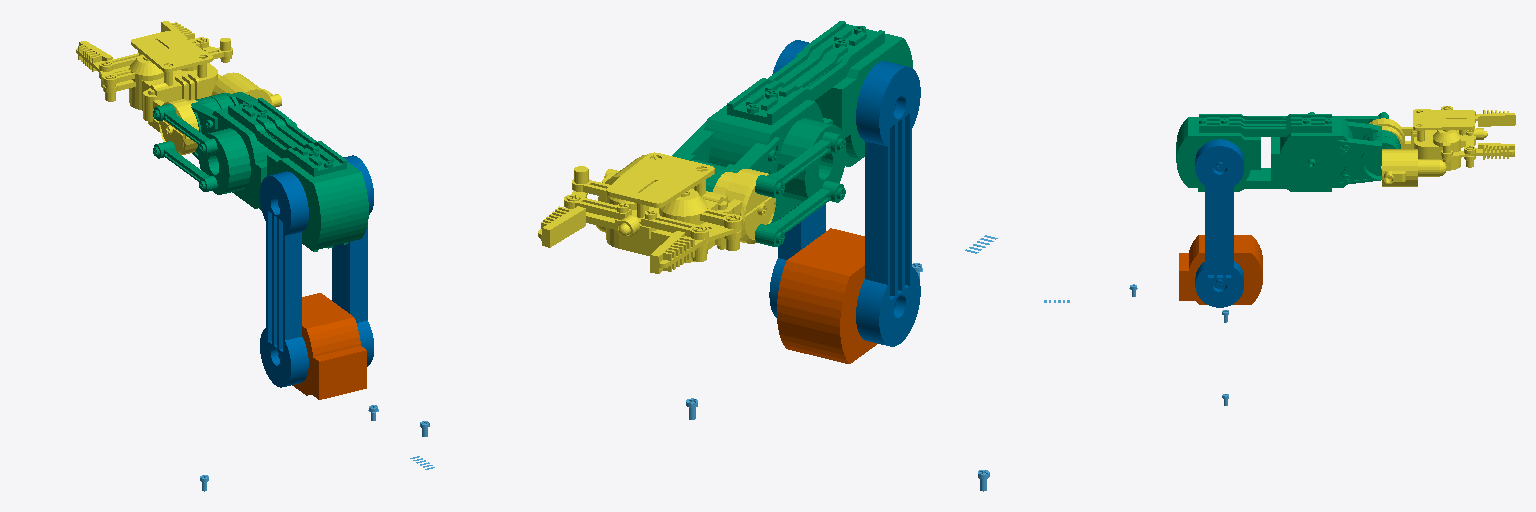
--- What the picture shows (computed from the rendered views, not written in the file) ---
The picture shows the robot from 3 angles, left to right: view 1: azimuth 30°, elevation 25°; view 2: azimuth 150°, elevation 25°; view 3: azimuth 270°, elevation 25°; orthographic projection.
Model owi535 with 6 links and 5 joints (4 revolute, 1 fixed), rooted at World, posed all joints at 0.
Visible links, largest first — view 1: Elbow, Base, Wrist, Rotation; view 2: Elbow, Wrist, Base, Rotation, Model; view 3: Elbow, Wrist, Base, Rotation.
Boxes of the visible links, x1,y1,x2,y2 form: Elbow: (153, 92, 368, 251); Base: (260, 155, 373, 387); Wrist: (76, 21, 281, 155); Rotation: (292, 293, 366, 399); Elbow: (672, 21, 912, 246); Wrist: (538, 152, 775, 273); Base: (769, 40, 920, 346); Rotation: (777, 228, 876, 363); Model: (686, 235, 997, 491); Elbow: (1176, 112, 1400, 191); Wrist: (1369, 106, 1515, 186); Base: (1195, 139, 1243, 307); Rotation: (1179, 235, 1262, 304).
Bounding box of the posed robot: 143 × 327 × 187 m (x, y, z).
72 mesh visuals loaded from 74 distinct referenced files (72 OBJ); not drawn: 2 (reference not matched to a file when rendering).

URDF robot description (owi535):
<?xml version="1.0" ?>
<robot name="owi535">
   <link name="World"/>
   <link name="Model">
      <visual>
         <origin rpy="0.0 -0.0 0.0" xyz="0.0 0.0 0.0"/>
         <geometry>
            <mesh filename="Untitled-mesh.0.obj"/>
         </geometry>
      </visual>
      <collision>
         <origin rpy="0.0 -0.0 0.0" xyz="0.0 0.0 0.0"/>
         <geometry>
            <mesh filename="Untitled-mesh.0.obj"/>
         </geometry>
      </collision>
      <visual>
         <origin rpy="0.0 -0.0 0.0" xyz="0.0 0.0 0.0"/>
         <geometry>
            <mesh filename="Untitled_001-mesh.0.obj"/>
         </geometry>
      </visual>
      <collision>
         <origin rpy="0.0 -0.0 0.0" xyz="0.0 0.0 0.0"/>
         <geometry>
            <mesh filename="Untitled_001-mesh.0.obj"/>
         </geometry>
      </collision>
      <visual>
         <origin rpy="0.0 -0.0 0.0" xyz="0.0 0.0 0.0"/>
         <geometry>
            <mesh filename="Untitled_001-mesh.1.obj"/>
         </geometry>
      </visual>
      <collision>
         <origin rpy="0.0 -0.0 0.0" xyz="0.0 0.0 0.0"/>
         <geometry>
            <mesh filename="Untitled_001-mesh.1.obj"/>
         </geometry>
      </collision>
      <visual>
         <origin rpy="0.0 -0.0 0.0" xyz="0.0 0.0 0.0"/>
         <geometry>
            <mesh filename="Untitled_001-mesh.2.obj"/>
         </geometry>
      </visual>
      <collision>
         <origin rpy="0.0 -0.0 0.0" xyz="0.0 0.0 0.0"/>
         <geometry>
            <mesh filename="Untitled_001-mesh.2.obj"/>
         </geometry>
      </collision>
      <visual>
         <origin rpy="0.0 -0.0 0.0" xyz="0.0 0.0 0.0"/>
         <geometry>
            <mesh filename="Untitled_001-mesh.3.obj"/>
         </geometry>
      </visual>
      <collision>
         <origin rpy="0.0 -0.0 0.0" xyz="0.0 0.0 0.0"/>
         <geometry>
            <mesh filename="Untitled_001-mesh.3.obj"/>
         </geometry>
      </collision>
      <visual>
         <origin rpy="0.0 -0.0 0.0" xyz="0.0 0.0 0.0"/>
         <geometry>
            <mesh filename="Untitled_002-mesh.0.obj"/>
         </geometry>
      </visual>
      <collision>
         <origin rpy="0.0 -0.0 0.0" xyz="0.0 0.0 0.0"/>
         <geometry>
            <mesh filename="Untitled_002-mesh.0.obj"/>
         </geometry>
      </collision>
      <visual>
         <origin rpy="0.0 -0.0 0.0" xyz="0.0 0.0 0.0"/>
         <geometry>
            <mesh filename="Untitled_003-mesh.0.obj"/>
         </geometry>
      </visual>
      <collision>
         <origin rpy="0.0 -0.0 0.0" xyz="0.0 0.0 0.0"/>
         <geometry>
            <mesh filename="Untitled_003-mesh.0.obj"/>
         </geometry>
      </collision>
       <inertial>
 <origin rpy="0.0 -0.0 0.0" xyz="0.0 0.0 0.0"/>
            <mass value="1" />
            
            
<inertia ixx="1" ixy="0" ixz="0" iyy="1" iyz="0" izz="1" />      </inertial>
   </link>
   <link name="Elbow">
      <visual>
         <origin rpy="-3.97231980642232e-09 -0.0 0.0" xyz="46.62923049926758 -157.33990478515625 23.237260818481445"/>
         <geometry>
            <mesh filename="Untitled_004-mesh.0.obj"/>
         </geometry>
      </visual>
      <collision>
         <origin rpy="-3.97231980642232e-09 -0.0 0.0" xyz="46.62923049926758 -157.33990478515625 23.237260818481445"/>
         <geometry>
            <mesh filename="Untitled_004-mesh.0.obj"/>
         </geometry>
      </collision>
      <visual>
         <origin rpy="-3.97231980642232e-09 -0.0 0.0" xyz="46.62923049926758 -157.33990478515625 23.237260818481445"/>
         <geometry>
            <mesh filename="Untitled_005-mesh.0.obj"/>
         </geometry>
      </visual>
      <collision>
         <origin rpy="-3.97231980642232e-09 -0.0 0.0" xyz="46.62923049926758 -157.33990478515625 23.237260818481445"/>
         <geometry>
            <mesh filename="Untitled_005-mesh.0.obj"/>
         </geometry>
      </collision>
      <visual>
         <origin rpy="-3.97231980642232e-09 -0.0 0.0" xyz="46.62923049926758 -157.33990478515625 23.237260818481445"/>
         <geometry>
            <mesh filename="Untitled_006-mesh.0.obj"/>
         </geometry>
      </visual>
      <collision>
         <origin rpy="-3.97231980642232e-09 -0.0 0.0" xyz="46.62923049926758 -157.33990478515625 23.237260818481445"/>
         <geometry>
            <mesh filename="Untitled_006-mesh.0.obj"/>
         </geometry>
      </collision>
      <visual>
         <origin rpy="-3.97231980642232e-09 -0.0 0.0" xyz="46.62923049926758 -157.33990478515625 23.237260818481445"/>
         <geometry>
            <mesh filename="Untitled_007-mesh.0.obj"/>
         </geometry>
      </visual>
      <collision>
         <origin rpy="-3.97231980642232e-09 -0.0 0.0" xyz="46.62923049926758 -157.33990478515625 23.237260818481445"/>
         <geometry>
            <mesh filename="Untitled_007-mesh.0.obj"/>
         </geometry>
      </collision>
      <visual>
         <origin rpy="-3.97231980642232e-09 -0.0 0.0" xyz="46.62923049926758 -157.33990478515625 23.237260818481445"/>
         <geometry>
            <mesh filename="Untitled_008-mesh.0.obj"/>
         </geometry>
      </visual>
      <collision>
         <origin rpy="-3.97231980642232e-09 -0.0 0.0" xyz="46.62923049926758 -157.33990478515625 23.237260818481445"/>
         <geometry>
            <mesh filename="Untitled_008-mesh.0.obj"/>
         </geometry>
      </collision>
      <visual>
         <origin rpy="-3.97231980642232e-09 -0.0 0.0" xyz="46.62923049926758 -157.33990478515625 23.237260818481445"/>
         <geometry>
            <mesh filename="Untitled_009-mesh.0.obj"/>
         </geometry>
      </visual>
      <collision>
         <origin rpy="-3.97231980642232e-09 -0.0 0.0" xyz="46.62923049926758 -157.33990478515625 23.237260818481445"/>
         <geometry>
            <mesh filename="Untitled_009-mesh.0.obj"/>
         </geometry>
      </collision>
      <visual>
         <origin rpy="-3.97231980642232e-09 -0.0 0.0" xyz="46.62923049926758 -157.33990478515625 23.237260818481445"/>
         <geometry>
            <mesh filename="Untitled_010-mesh.0.obj"/>
         </geometry>
      </visual>
      <collision>
         <origin rpy="-3.97231980642232e-09 -0.0 0.0" xyz="46.62923049926758 -157.33990478515625 23.237260818481445"/>
         <geometry>
            <mesh filename="Untitled_010-mesh.0.obj"/>
         </geometry>
      </collision>
      <visual>
         <origin rpy="-3.97231980642232e-09 -0.0 0.0" xyz="46.62923049926758 -157.33990478515625 23.237260818481445"/>
         <geometry>
            <mesh filename="Untitled_011-mesh.0.obj"/>
         </geometry>
      </visual>
      <collision>
         <origin rpy="-3.97231980642232e-09 -0.0 0.0" xyz="46.62923049926758 -157.33990478515625 23.237260818481445"/>
         <geometry>
            <mesh filename="Untitled_011-mesh.0.obj"/>
         </geometry>
      </collision>
      <visual>
         <origin rpy="-7.94463961284464e-09 -0.0 0.0" xyz="46.62922668457031 -157.33990478515625 23.237262725830078"/>
         <geometry>
            <mesh filename="Untitled_040-mesh.0.obj"/>
         </geometry>
      </visual>
      <collision>
         <origin rpy="-7.94463961284464e-09 -0.0 0.0" xyz="46.62922668457031 -157.33990478515625 23.237262725830078"/>
         <geometry>
            <mesh filename="Untitled_040-mesh.0.obj"/>
         </geometry>
      </collision>
      <visual>
         <origin rpy="-7.94463961284464e-09 -0.0 0.0" xyz="46.62922668457031 -157.33990478515625 23.237262725830078"/>
         <geometry>
            <mesh filename="Untitled_041-mesh.0.obj"/>
         </geometry>
      </visual>
      <collision>
         <origin rpy="-7.94463961284464e-09 -0.0 0.0" xyz="46.62922668457031 -157.33990478515625 23.237262725830078"/>
         <geometry>
            <mesh filename="Untitled_041-mesh.0.obj"/>
         </geometry>
      </collision>
      <visual>
         <origin rpy="-7.94463961284464e-09 -0.0 0.0" xyz="46.62922668457031 -157.33990478515625 23.237262725830078"/>
         <geometry>
            <mesh filename="Untitled_042-mesh.0.obj"/>
         </geometry>
      </visual>
      <collision>
         <origin rpy="-7.94463961284464e-09 -0.0 0.0" xyz="46.62922668457031 -157.33990478515625 23.237262725830078"/>
         <geometry>
            <mesh filename="Untitled_042-mesh.0.obj"/>
         </geometry>
      </collision>
      <visual>
         <origin rpy="-7.94463961284464e-09 -0.0 0.0" xyz="46.62922668457031 -157.33990478515625 23.237262725830078"/>
         <geometry>
            <mesh filename="Untitled_043-mesh.0.obj"/>
         </geometry>
      </visual>
      <collision>
         <origin rpy="-7.94463961284464e-09 -0.0 0.0" xyz="46.62922668457031 -157.33990478515625 23.237262725830078"/>
         <geometry>
            <mesh filename="Untitled_043-mesh.0.obj"/>
         </geometry>
      </collision>
      <visual>
         <origin rpy="-7.94463961284464e-09 -0.0 0.0" xyz="46.62922668457031 -157.33990478515625 23.237262725830078"/>
         <geometry>
            <mesh filename="Untitled_044-mesh.0.obj"/>
         </geometry>
      </visual>
      <collision>
         <origin rpy="-7.94463961284464e-09 -0.0 0.0" xyz="46.62922668457031 -157.33990478515625 23.237262725830078"/>
         <geometry>
            <mesh filename="Untitled_044-mesh.0.obj"/>
         </geometry>
      </collision>
      <visual>
         <origin rpy="-7.94463961284464e-09 -0.0 0.0" xyz="46.62922668457031 -157.33990478515625 23.237262725830078"/>
         <geometry>
            <mesh filename="Untitled_045-mesh.0.obj"/>
         </geometry>
      </visual>
      <collision>
         <origin rpy="-7.94463961284464e-09 -0.0 0.0" xyz="46.62922668457031 -157.33990478515625 23.237262725830078"/>
         <geometry>
            <mesh filename="Untitled_045-mesh.0.obj"/>
         </geometry>
      </collision>
      <visual>
         <origin rpy="-7.94463961284464e-09 -0.0 0.0" xyz="46.62922668457031 -157.33990478515625 23.237262725830078"/>
         <geometry>
            <mesh filename="Untitled_046-mesh.0.obj"/>
         </geometry>
      </visual>
      <collision>
         <origin rpy="-7.94463961284464e-09 -0.0 0.0" xyz="46.62922668457031 -157.33990478515625 23.237262725830078"/>
         <geometry>
            <mesh filename="Untitled_046-mesh.0.obj"/>
         </geometry>
      </collision>
      <visual>
         <origin rpy="-7.94463961284464e-09 -0.0 0.0" xyz="46.62922668457031 -157.33990478515625 23.237262725830078"/>
         <geometry>
            <mesh filename="Untitled_047-mesh.0.obj"/>
         </geometry>
      </visual>
      <collision>
         <origin rpy="-7.94463961284464e-09 -0.0 0.0" xyz="46.62922668457031 -157.33990478515625 23.237262725830078"/>
         <geometry>
            <mesh filename="Untitled_047-mesh.0.obj"/>
         </geometry>
      </collision>
      <visual>
         <origin rpy="-7.94463961284464e-09 -0.0 0.0" xyz="46.62922668457031 -157.33990478515625 23.237262725830078"/>
         <geometry>
            <mesh filename="Untitled_048-mesh.0.obj"/>
         </geometry>
      </visual>
      <collision>
         <origin rpy="-7.94463961284464e-09 -0.0 0.0" xyz="46.62922668457031 -157.33990478515625 23.237262725830078"/>
         <geometry>
            <mesh filename="Untitled_048-mesh.0.obj"/>
         </geometry>
      </collision>
      <visual>
         <origin rpy="-7.94463961284464e-09 -0.0 0.0" xyz="46.62922668457031 -157.33990478515625 23.237262725830078"/>
         <geometry>
            <mesh filename="Untitled_049-mesh.0.obj"/>
         </geometry>
      </visual>
      <collision>
         <origin rpy="-7.94463961284464e-09 -0.0 0.0" xyz="46.62922668457031 -157.33990478515625 23.237262725830078"/>
         <geometry>
            <mesh filename="Untitled_049-mesh.0.obj"/>
         </geometry>
      </collision>
      <visual>
         <origin rpy="-7.94463961284464e-09 -0.0 0.0" xyz="46.62922668457031 -157.33990478515625 23.237262725830078"/>
         <geometry>
            <mesh filename="Untitled_050-mesh.0.obj"/>
         </geometry>
      </visual>
      <collision>
         <origin rpy="-7.94463961284464e-09 -0.0 0.0" xyz="46.62922668457031 -157.33990478515625 23.237262725830078"/>
         <geometry>
            <mesh filename="Untitled_050-mesh.0.obj"/>
         </geometry>
      </collision>
      <visual>
         <origin rpy="-7.94463961284464e-09 -0.0 0.0" xyz="46.62922668457031 -157.33990478515625 23.237262725830078"/>
         <geometry>
            <mesh filename="Untitled_051-mesh.0.obj"/>
         </geometry>
      </visual>
      <collision>
         <origin rpy="-7.94463961284464e-09 -0.0 0.0" xyz="46.62922668457031 -157.33990478515625 23.237262725830078"/>
         <geometry>
            <mesh filename="Untitled_051-mesh.0.obj"/>
         </geometry>
      </collision>
      <visual>
         <origin rpy="-7.94463961284464e-09 -0.0 0.0" xyz="46.62922668457031 -157.33990478515625 23.237262725830078"/>
         <geometry>
            <mesh filename="Untitled_052-mesh.0.obj"/>
         </geometry>
      </visual>
      <collision>
         <origin rpy="-7.94463961284464e-09 -0.0 0.0" xyz="46.62922668457031 -157.33990478515625 23.237262725830078"/>
         <geometry>
            <mesh filename="Untitled_052-mesh.0.obj"/>
         </geometry>
      </collision>
      <visual>
         <origin rpy="-7.94463961284464e-09 -0.0 0.0" xyz="46.62922668457031 -157.33990478515625 23.237262725830078"/>
         <geometry>
            <mesh filename="Untitled_053-mesh.0.obj"/>
         </geometry>
      </visual>
      <collision>
         <origin rpy="-7.94463961284464e-09 -0.0 0.0" xyz="46.62922668457031 -157.33990478515625 23.237262725830078"/>
         <geometry>
            <mesh filename="Untitled_053-mesh.0.obj"/>
         </geometry>
      </collision>
      <visual>
         <origin rpy="-7.94463961284464e-09 -0.0 0.0" xyz="46.62922668457031 -157.33990478515625 23.237262725830078"/>
         <geometry>
            <mesh filename="Untitled_054-mesh.0.obj"/>
         </geometry>
      </visual>
      <collision>
         <origin rpy="-7.94463961284464e-09 -0.0 0.0" xyz="46.62922668457031 -157.33990478515625 23.237262725830078"/>
         <geometry>
            <mesh filename="Untitled_054-mesh.0.obj"/>
         </geometry>
      </collision>
      <visual>
         <origin rpy="-7.94463961284464e-09 -0.0 0.0" xyz="46.62922668457031 -157.33990478515625 23.237262725830078"/>
         <geometry>
            <mesh filename="Untitled_055-mesh.0.obj"/>
         </geometry>
      </visual>
      <collision>
         <origin rpy="-7.94463961284464e-09 -0.0 0.0" xyz="46.62922668457031 -157.33990478515625 23.237262725830078"/>
         <geometry>
            <mesh filename="Untitled_055-mesh.0.obj"/>
         </geometry>
      </collision>
      <visual>
         <origin rpy="-7.94463961284464e-09 -0.0 0.0" xyz="46.62922668457031 -157.33990478515625 23.237262725830078"/>
         <geometry>
            <mesh filename="Untitled_056-mesh.0.obj"/>
         </geometry>
      </visual>
      <collision>
         <origin rpy="-7.94463961284464e-09 -0.0 0.0" xyz="46.62922668457031 -157.33990478515625 23.237262725830078"/>
         <geometry>
            <mesh filename="Untitled_056-mesh.0.obj"/>
         </geometry>
      </collision>
      <visual>
         <origin rpy="-7.94463961284464e-09 -0.0 0.0" xyz="46.62922668457031 -157.33990478515625 23.237262725830078"/>
         <geometry>
            <mesh filename="Untitled_057-mesh.0.obj"/>
         </geometry>
      </visual>
      <collision>
         <origin rpy="-7.94463961284464e-09 -0.0 0.0" xyz="46.62922668457031 -157.33990478515625 23.237262725830078"/>
         <geometry>
            <mesh filename="Untitled_057-mesh.0.obj"/>
         </geometry>
      </collision>
            <inertial>

            <mass value="5" />
            
<inertia ixx="1" ixy="0" ixz="0" iyy="1" iyz="0" izz="1" />    </inertial>
   </link>
   <link name="Wrist">
      <visual>
         <origin rpy="4.371139894487894e-08 -0.0 0.0" xyz="45.20729064941406 -156.94960021972656 136.8153076171875"/>
         <geometry>
            <mesh filename="Untitled_012-mesh.0.obj"/>
         </geometry>
      </visual>
      <collision>
         <origin rpy="4.371139894487894e-08 -0.0 0.0" xyz="45.20729064941406 -156.94960021972656 136.8153076171875"/>
         <geometry>
            <mesh filename="Untitled_012-mesh.0.obj"/>
         </geometry>
      </collision>
      <visual>
         <origin rpy="4.371139894487894e-08 -0.0 0.0" xyz="45.20729064941406 -156.94960021972656 136.8153076171875"/>
         <geometry>
            <mesh filename="Untitled_013-mesh.0.obj"/>
         </geometry>
      </visual>
      <collision>
         <origin rpy="4.371139894487894e-08 -0.0 0.0" xyz="45.20729064941406 -156.94960021972656 136.8153076171875"/>
         <geometry>
            <mesh filename="Untitled_013-mesh.0.obj"/>
         </geometry>
      </collision>
      <visual>
         <origin rpy="4.371139894487894e-08 -0.0 0.0" xyz="45.20729064941406 -156.94960021972656 136.8153076171875"/>
         <geometry>
            <mesh filename="Untitled_014-mesh.0.obj"/>
         </geometry>
      </visual>
      <collision>
         <origin rpy="4.371139894487894e-08 -0.0 0.0" xyz="45.20729064941406 -156.94960021972656 136.8153076171875"/>
         <geometry>
            <mesh filename="Untitled_014-mesh.0.obj"/>
         </geometry>
      </collision>
      <visual>
         <origin rpy="4.371139894487894e-08 -0.0 0.0" xyz="45.20729064941406 -156.94960021972656 136.8153076171875"/>
         <geometry>
            <mesh filename="Untitled_015-mesh.0.obj"/>
         </geometry>
      </visual>
      <collision>
         <origin rpy="4.371139894487894e-08 -0.0 0.0" xyz="45.20729064941406 -156.94960021972656 136.8153076171875"/>
         <geometry>
            <mesh filename="Untitled_015-mesh.0.obj"/>
         </geometry>
      </collision>
      <visual>
         <origin rpy="4.371139894487894e-08 -0.0 0.0" xyz="45.20729064941406 -156.94960021972656 136.8153076171875"/>
         <geometry>
            <mesh filename="Untitled_016-mesh.0.obj"/>
         </geometry>
      </visual>
      <collision>
         <origin rpy="4.371139894487894e-08 -0.0 0.0" xyz="45.20729064941406 -156.94960021972656 136.8153076171875"/>
         <geometry>
            <mesh filename="Untitled_016-mesh.0.obj"/>
         </geometry>
      </collision>
      <visual>
         <origin rpy="4.371139894487894e-08 -0.0 0.0" xyz="45.20729064941406 -156.94960021972656 136.8153076171875"/>
         <geometry>
            <mesh filename="Untitled_017-mesh.0.obj"/>
         </geometry>
      </visual>
      <collision>
         <origin rpy="4.371139894487894e-08 -0.0 0.0" xyz="45.20729064941406 -156.94960021972656 136.8153076171875"/>
         <geometry>
            <mesh filename="Untitled_017-mesh.0.obj"/>
         </geometry>
      </collision>
      <visual>
         <origin rpy="4.371139894487894e-08 -0.0 0.0" xyz="45.20729064941406 -156.94960021972656 136.8153076171875"/>
         <geometry>
            <mesh filename="Untitled_018-mesh.0.obj"/>
         </geometry>
      </visual>
      <collision>
         <origin rpy="4.371139894487894e-08 -0.0 0.0" xyz="45.20729064941406 -156.94960021972656 136.8153076171875"/>
         <geometry>
            <mesh filename="Untitled_018-mesh.0.obj"/>
         </geometry>
      </collision>
      <visual>
         <origin rpy="4.371139894487894e-08 -0.0 0.0" xyz="45.20729064941406 -156.94960021972656 136.8153076171875"/>
         <geometry>
            <mesh filename="Untitled_019-mesh.0.obj"/>
         </geometry>
      </visual>
      <collision>
         <origin rpy="4.371139894487894e-08 -0.0 0.0" xyz="45.20729064941406 -156.94960021972656 136.8153076171875"/>
         <geometry>
            <mesh filename="Untitled_019-mesh.0.obj"/>
         </geometry>
      </collision>
      <visual>
         <origin rpy="4.371139894487894e-08 -0.0 0.0" xyz="45.20729064941406 -156.94960021972656 136.8153076171875"/>
         <geometry>
            <mesh filename="Untitled_019-mesh.1.obj"/>
         </geometry>
      </visual>
      <collision>
         <origin rpy="4.371139894487894e-08 -0.0 0.0" xyz="45.20729064941406 -156.94960021972656 136.8153076171875"/>
         <geometry>
            <mesh filename="Untitled_019-mesh.1.obj"/>
         </geometry>
      </collision>
      <visual>
         <origin rpy="4.371139894487894e-08 -0.0 0.0" xyz="45.20729064941406 -156.94960021972656 136.8153076171875"/>
         <geometry>
            <mesh filename="Untitled_019-mesh.2.obj"/>
         </geometry>
      </visual>
      <collision>
         <origin rpy="4.371139894487894e-08 -0.0 0.0" xyz="45.20729064941406 -156.94960021972656 136.8153076171875"/>
         <geometry>
            <mesh filename="Untitled_019-mesh.2.obj"/>
         </geometry>
      </collision>
      <visual>
         <origin rpy="4.371139894487894e-08 -0.0 0.0" xyz="45.20729064941406 -156.94960021972656 136.8153076171875"/>
         <geometry>
            <mesh filename="Untitled_020-mesh.0.obj"/>
         </geometry>
      </visual>
      <collision>
         <origin rpy="4.371139894487894e-08 -0.0 0.0" xyz="45.20729064941406 -156.94960021972656 136.8153076171875"/>
         <geometry>
            <mesh filename="Untitled_020-mesh.0.obj"/>
         </geometry>
      </collision>
      <visual>
         <origin rpy="4.371139894487894e-08 -0.0 0.0" xyz="45.20729064941406 -156.94960021972656 136.8153076171875"/>
         <geometry>
            <mesh filename="Untitled_021-mesh.0.obj"/>
         </geometry>
      </visual>
      <collision>
         <origin rpy="4.371139894487894e-08 -0.0 0.0" xyz="45.20729064941406 -156.94960021972656 136.8153076171875"/>
         <geometry>
            <mesh filename="Untitled_021-mesh.0.obj"/>
         </geometry>
      </collision>
      <visual>
         <origin rpy="4.371139894487894e-08 -0.0 0.0" xyz="45.20729064941406 -156.94960021972656 136.8153076171875"/>
         <geometry>
            <mesh filename="Untitled_022-mesh.0.obj"/>
         </geometry>
      </visual>
      <collision>
         <origin rpy="4.371139894487894e-08 -0.0 0.0" xyz="45.20729064941406 -156.94960021972656 136.8153076171875"/>
         <geometry>
            <mesh filename="Untitled_022-mesh.0.obj"/>
         </geometry>
      </collision>
      <visual>
         <origin rpy="4.371139894487894e-08 -0.0 0.0" xyz="45.20729064941406 -156.94960021972656 136.8153076171875"/>
         <geometry>
            <mesh filename="Untitled_022-mesh.1.obj"/>
         </geometry>
      </visual>
      <collision>
         <origin rpy="4.371139894487894e-08 -0.0 0.0" xyz="45.20729064941406 -156.94960021972656 136.8153076171875"/>
         <geometry>
            <mesh filename="Untitled_022-mesh.1.obj"/>
         </geometry>
      </collision>
      <visual>
         <origin rpy="4.371139894487894e-08 -0.0 0.0" xyz="45.20729064941406 -156.94960021972656 136.8153076171875"/>
         <geometry>
            <mesh filename="Untitled_022-mesh.2.obj"/>
         </geometry>
      </visual>
      <collision>
         <origin rpy="4.371139894487894e-08 -0.0 0.0" xyz="45.20729064941406 -156.94960021972656 136.8153076171875"/>
         <geometry>
            <mesh filename="Untitled_022-mesh.2.obj"/>
         </geometry>
      </collision>
      <visual>
         <origin rpy="4.371139894487894e-08 -0.0 0.0" xyz="45.20729064941406 -156.94960021972656 136.8153076171875"/>
         <geometry>
            <mesh filename="Untitled_023-mesh.0.obj"/>
         </geometry>
      </visual>
      <collision>
         <origin rpy="4.371139894487894e-08 -0.0 0.0" xyz="45.20729064941406 -156.94960021972656 136.8153076171875"/>
         <geometry>
            <mesh filename="Untitled_023-mesh.0.obj"/>
         </geometry>
      </collision>
      <visual>
         <origin rpy="4.371139894487894e-08 -0.0 0.0" xyz="45.20729064941406 -156.94960021972656 136.8153076171875"/>
         <geometry>
            <mesh filename="Untitled_024-mesh.0.obj"/>
         </geometry>
      </visual>
      <collision>
         <origin rpy="4.371139894487894e-08 -0.0 0.0" xyz="45.20729064941406 -156.94960021972656 136.8153076171875"/>
         <geometry>
            <mesh filename="Untitled_024-mesh.0.obj"/>
         </geometry>
      </collision>
      <visual>
         <origin rpy="4.371139894487894e-08 -0.0 0.0" xyz="45.20729064941406 -156.94960021972656 136.8153076171875"/>
         <geometry>
            <mesh filename="Untitled_025-mesh.0.obj"/>
         </geometry>
      </visual>
      <collision>
         <origin rpy="4.371139894487894e-08 -0.0 0.0" xyz="45.20729064941406 -156.94960021972656 136.8153076171875"/>
         <geometry>
            <mesh filename="Untitled_025-mesh.0.obj"/>
         </geometry>
      </collision>
      <visual>
         <origin rpy="4.371139894487894e-08 -0.0 0.0" xyz="45.20729064941406 -156.94960021972656 136.8153076171875"/>
         <geometry>
            <mesh filename="Untitled_026-mesh.0.obj"/>
         </geometry>
      </visual>
      <collision>
         <origin rpy="4.371139894487894e-08 -0.0 0.0" xyz="45.20729064941406 -156.94960021972656 136.8153076171875"/>
         <geometry>
            <mesh filename="Untitled_026-mesh.0.obj"/>
         </geometry>
      </collision>
      <visual>
         <origin rpy="4.371139894487894e-08 -0.0 0.0" xyz="45.20729064941406 -156.94960021972656 136.8153076171875"/>
         <geometry>
            <mesh filename="Untitled_026-mesh.1.obj"/>
         </geometry>
      </visual>
      <collision>
         <origin rpy="4.371139894487894e-08 -0.0 0.0" xyz="45.20729064941406 -156.94960021972656 136.8153076171875"/>
         <geometry>
            <mesh filename="Untitled_026-mesh.1.obj"/>
         </geometry>
      </collision>
      <visual>
         <origin rpy="4.371139894487894e-08 -0.0 0.0" xyz="45.20729064941406 -156.94960021972656 136.8153076171875"/>
         <geometry>
            <mesh filename="Untitled_027-mesh.0.obj"/>
         </geometry>
      </visual>
      <collision>
         <origin rpy="4.371139894487894e-08 -0.0 0.0" xyz="45.20729064941406 -156.94960021972656 136.8153076171875"/>
         <geometry>
            <mesh filename="Untitled_027-mesh.0.obj"/>
         </geometry>
      </collision>
      <visual>
         <origin rpy="4.371139894487894e-08 -0.0 0.0" xyz="45.20729064941406 -156.94960021972656 136.8153076171875"/>
         <geometry>
            <mesh filename="Untitled_028-mesh.0.obj"/>
         </geometry>
      </visual>
      <collision>
         <origin rpy="4.371139894487894e-08 -0.0 0.0" xyz="45.20729064941406 -156.94960021972656 136.8153076171875"/>
         <geometry>
            <mesh filename="Untitled_028-mesh.0.obj"/>
         </geometry>
      </collision>
      <visual>
         <origin rpy="4.371139894487894e-08 -0.0 0.0" xyz="45.20729064941406 -156.94960021972656 136.8153076171875"/>
         <geometry>
            <mesh filename="Untitled_029-mesh.0.obj"/>
         </geometry>
      </visual>
      <collision>
         <origin rpy="4.371139894487894e-08 -0.0 0.0" xyz="45.20729064941406 -156.94960021972656 136.8153076171875"/>
         <geometry>
            <mesh filename="Untitled_029-mesh.0.obj"/>
         </geometry>
      </collision>
      <visual>
         <origin rpy="4.371139894487894e-08 -0.0 0.0" xyz="45.20729064941406 -156.94960021972656 136.8153076171875"/>
         <geometry>
            <mesh filename="Untitled_030-mesh.0.obj"/>
         </geometry>
      </visual>
      <collision>
         <origin rpy="4.371139894487894e-08 -0.0 0.0" xyz="45.20729064941406 -156.94960021972656 136.8153076171875"/>
         <geometry>
            <mesh filename="Untitled_030-mesh.0.obj"/>
         </geometry>
      </collision>
      <visual>
         <origin rpy="4.371139894487894e-08 -0.0 0.0" xyz="45.20729064941406 -156.94960021972656 136.8153076171875"/>
         <geometry>
            <mesh filename="Untitled_031-mesh.0.obj"/>
         </geometry>
      </visual>
      <collision>
         <origin rpy="4.371139894487894e-08 -0.0 0.0" xyz="45.20729064941406 -156.94960021972656 136.8153076171875"/>
         <geometry>
            <mesh filename="Untitled_031-mesh.0.obj"/>
         </geometry>
      </collision>
      <visual>
         <origin rpy="4.371139894487894e-08 -0.0 0.0" xyz="45.20729064941406 -156.94960021972656 136.8153076171875"/>
         <geometry>
            <mesh filename="Untitled_032-mesh.0.obj"/>
         </geometry>
      </visual>
      <collision>
         <origin rpy="4.371139894487894e-08 -0.0 0.0" xyz="45.20729064941406 -156.94960021972656 136.8153076171875"/>
         <geometry>
            <mesh filename="Untitled_032-mesh.0.obj"/>
         </geometry>
      </collision>
      <visual>
         <origin rpy="4.371139894487894e-08 -0.0 0.0" xyz="45.20729064941406 -156.94960021972656 136.8153076171875"/>
         <geometry>
            <mesh filename="Untitled_033-mesh.0.obj"/>
         </geometry>
      </visual>
      <collision>
         <origin rpy="4.371139894487894e-08 -0.0 0.0" xyz="45.20729064941406 -156.94960021972656 136.8153076171875"/>
         <geometry>
            <mesh filename="Untitled_033-mesh.0.obj"/>
         </geometry>
      </collision>
      <visual>
         <origin rpy="4.371139894487894e-08 -0.0 0.0" xyz="45.20729064941406 -156.94960021972656 136.8153076171875"/>
         <geometry>
            <mesh filename="Untitled_034-mesh.0.obj"/>
         </geometry>
      </visual>
      <collision>
         <origin rpy="4.371139894487894e-08 -0.0 0.0" xyz="45.20729064941406 -156.94960021972656 136.8153076171875"/>
         <geometry>
            <mesh filename="Untitled_034-mesh.0.obj"/>
         </geometry>
      </collision>
      <visual>
         <origin rpy="4.371139894487894e-08 -0.0 0.0" xyz="45.20729064941406 -156.94960021972656 136.8153076171875"/>
         <geometry>
            <mesh filename="Untitled_035-mesh.0.obj"/>
         </geometry>
      </visual>
      <collision>
         <origin rpy="4.371139894487894e-08 -0.0 0.0" xyz="45.20729064941406 -156.94960021972656 136.8153076171875"/>
         <geometry>
            <mesh filename="Untitled_035-mesh.0.obj"/>
         </geometry>
      </collision>
      <visual>
         <origin rpy="4.371139894487894e-08 -0.0 0.0" xyz="45.20729064941406 -156.94960021972656 136.8153076171875"/>
         <geometry>
            <mesh filename="Untitled_036-mesh.0.obj"/>
         </geometry>
      </visual>
      <collision>
         <origin rpy="4.371139894487894e-08 -0.0 0.0" xyz="45.20729064941406 -156.94960021972656 136.8153076171875"/>
         <geometry>
            <mesh filename="Untitled_036-mesh.0.obj"/>
         </geometry>
      </collision>
      <visual>
         <origin rpy="4.371139894487894e-08 -0.0 0.0" xyz="45.20729064941406 -156.94960021972656 136.8153076171875"/>
         <geometry>
            <mesh filename="Untitled_037-mesh.0.obj"/>
         </geometry>
      </visual>
      <collision>
         <origin rpy="4.371139894487894e-08 -0.0 0.0" xyz="45.20729064941406 -156.94960021972656 136.8153076171875"/>
         <geometry>
            <mesh filename="Untitled_037-mesh.0.obj"/>
         </geometry>
      </collision>
      <visual>
         <origin rpy="4.371139894487894e-08 -0.0 0.0" xyz="45.20729064941406 -156.94960021972656 136.8153076171875"/>
         <geometry>
            <mesh filename="Untitled_037-mesh.1.obj"/>
         </geometry>
      </visual>
      <collision>
         <origin rpy="4.371139894487894e-08 -0.0 0.0" xyz="45.20729064941406 -156.94960021972656 136.8153076171875"/>
         <geometry>
            <mesh filename="Untitled_037-mesh.1.obj"/>
         </geometry>
      </collision>
      <visual>
         <origin rpy="4.371139894487894e-08 -0.0 0.0" xyz="45.20729064941406 -156.94960021972656 136.8153076171875"/>
         <geometry>
            <mesh filename="Untitled_038-mesh.0.obj"/>
         </geometry>
      </visual>
      <collision>
         <origin rpy="4.371139894487894e-08 -0.0 0.0" xyz="45.20729064941406 -156.94960021972656 136.8153076171875"/>
         <geometry>
            <mesh filename="Untitled_038-mesh.0.obj"/>
         </geometry>
      </collision>
      <visual>
         <origin rpy="4.371139894487894e-08 -0.0 0.0" xyz="45.20729064941406 -156.94960021972656 136.8153076171875"/>
         <geometry>
            <mesh filename="Untitled_039-mesh.0.obj"/>
         </geometry>
      </visual>
      <collision>
         <origin rpy="4.371139894487894e-08 -0.0 0.0" xyz="45.20729064941406 -156.94960021972656 136.8153076171875"/>
         <geometry>
            <mesh filename="Untitled_039-mesh.0.obj"/>
         </geometry>
      </collision>
            <inertial>

            <mass value="5" />
            
            
<inertia ixx="1" ixy="0" ixz="0" iyy="1" iyz="0" izz="1" />     </inertial>
   </link>
   <link name="Base">
      <visual>
         <origin rpy="1.1128840071705781e-08 -0.0 0.0" xyz="45.207271575927734 -67.66277313232422 22.967529296875"/>
         <geometry>
            <mesh filename="Untitled_058-mesh.0.obj"/>
         </geometry>
      </visual>
      <collision>
         <origin rpy="1.1128840071705781e-08 -0.0 0.0" xyz="45.207271575927734 -67.66277313232422 22.967529296875"/>
         <geometry>
            <mesh filename="Untitled_058-mesh.0.obj"/>
         </geometry>
      </collision>
      <visual>
         <origin rpy="1.1128840071705781e-08 -0.0 0.0" xyz="45.207271575927734 -67.66277313232422 22.967529296875"/>
         <geometry>
            <mesh filename="Untitled_059-mesh.0.obj"/>
         </geometry>
      </visual>
      <collision>
         <origin rpy="1.1128840071705781e-08 -0.0 0.0" xyz="45.207271575927734 -67.66277313232422 22.967529296875"/>
         <geometry>
            <mesh filename="Untitled_059-mesh.0.obj"/>
         </geometry>
      </collision>
      <visual>
         <origin rpy="1.1128840071705781e-08 -0.0 0.0" xyz="45.207271575927734 -67.66277313232422 22.967529296875"/>
         <geometry>
            <mesh filename="Untitled_060-mesh.0.obj"/>
         </geometry>
      </visual>
      <collision>
         <origin rpy="1.1128840071705781e-08 -0.0 0.0" xyz="45.207271575927734 -67.66277313232422 22.967529296875"/>
         <geometry>
            <mesh filename="Untitled_060-mesh.0.obj"/>
         </geometry>
      </collision>
      <visual>
         <origin rpy="1.1128840071705781e-08 -0.0 0.0" xyz="45.207271575927734 -67.66277313232422 22.967529296875"/>
         <geometry>
            <mesh filename="Untitled_061-mesh.0.obj"/>
         </geometry>
      </visual>
      <collision>
         <origin rpy="1.1128840071705781e-08 -0.0 0.0" xyz="45.207271575927734 -67.66277313232422 22.967529296875"/>
         <geometry>
            <mesh filename="Untitled_061-mesh.0.obj"/>
         </geometry>
      </collision>
      <visual>
         <origin rpy="1.1128840071705781e-08 -0.0 0.0" xyz="45.207271575927734 -67.66277313232422 22.967529296875"/>
         <geometry>
            <mesh filename="Untitled_062-mesh.0.obj"/>
         </geometry>
      </visual>
      <collision>
         <origin rpy="1.1128840071705781e-08 -0.0 0.0" xyz="45.207271575927734 -67.66277313232422 22.967529296875"/>
         <geometry>
            <mesh filename="Untitled_062-mesh.0.obj"/>
         </geometry>
      </collision>
      <visual>
         <origin rpy="1.1128840071705781e-08 -0.0 0.0" xyz="45.207271575927734 -67.66277313232422 22.967529296875"/>
         <geometry>
            <mesh filename="Untitled_063-mesh.0.obj"/>
         </geometry>
      </visual>
      <collision>
         <origin rpy="1.1128840071705781e-08 -0.0 0.0" xyz="45.207271575927734 -67.66277313232422 22.967529296875"/>
         <geometry>
            <mesh filename="Untitled_063-mesh.0.obj"/>
         </geometry>
      </collision>
            <inertial>

            <mass value="5" />
            
            
<inertia ixx="1" ixy="0" ixz="0" iyy="1" iyz="0" izz="1" />     </inertial>
   </link>
   <link name="Rotation">
      <visual>
         <origin rpy="1.112884007170578e-08 -1.2086680101219856e-07 -3.1868600558481205e-07" xyz="45.94236755371094 -66.8334732055664 25.347610473632812"/>
         <geometry>
            <mesh filename="Untitled_064-mesh.0.obj"/>
         </geometry>
      </visual>
      <collision>
         <origin rpy="1.112884007170578e-08 -1.2086680101219856e-07 -3.1868600558481205e-07" xyz="45.94236755371094 -66.8334732055664 25.347610473632812"/>
         <geometry>
            <mesh filename="Untitled_064-mesh.0.obj"/>
         </geometry>
      </collision>
   </link>
   <joint name="World_Model" type="fixed">
      <parent link="World"/>
      <child link="Model"/>
      <dynamics damping="0.0" friction="0.0"/>
      <origin rpy="1.5707963705062988 -0.0 0.0" xyz="0.0 0.0 0.0"/>
   </joint>
   <joint name="Model_Rotation" type="revolute">
      <parent link="Model"/>
      <child link="Rotation"/>
      <dynamics damping="0.0" friction="0.0"/>
      <origin rpy="0.0 -0.0 0.0" xyz="-45.9423713684082 66.8334732055664 -25.347610473632812"/>
      <axis xyz="0 1 0"/>
      <limit effort="30" velocity="1.0" lower="-2.268928" upper="2.268928"/>
   </joint>
   <joint name="Rotation_Base" type="revolute">
      <parent link="Rotation"/>
      <child link="Base"/>
      <dynamics damping="0.0" friction="0.0"/>
      <origin rpy="5.5644200358528906e-09 -6.043340050609917e-08 -1.5934300279241008e-07" xyz="0.7350807189941406 0.8293303847312927 2.3800790309906006"/>
      <axis xyz="1 0 0"/>
      <limit effort="30" velocity="1.0" lower="-1.570796" upper="1.047198"/>
   </joint>
   <joint name="Base_Elbow" type="revolute">
      <parent link="Base"/>
      <child link="Elbow"/>
      <dynamics damping="0.0" friction="0.0"/>
      <origin rpy="5.5644200358528906e-09 -0.0 0.0" xyz="-1.42194402217865 89.6771011352539 -0.2697296142578125"/>
      <axis xyz="1 0 0"/>
      <limit effort="30" velocity="1.0" lower="-1.047198" upper="1.570796"/>
   </joint>
   <joint name="Elbow_Wrist" type="revolute">
      <parent link="Elbow"/>
      <child link="Wrist"/>
      <dynamics damping="0.0" friction="0.0"/>
      <origin rpy="-3.97231980642232e-09 -0.0 0.0" xyz="1.4219470024108887 -0.3902587890625 -113.5781021118164"/>
      <axis xyz="1 0 0"/>
      <limit effort="30" velocity="1.0" lower="-0.785398" upper="0.785398"/>
   </joint>
   <transmission name="tran1">
      <type>transmission_interface/SimpleTransmission</type>
      <joint name="Model_Rotation">
   <hardwareInterface>hardware_interface/EffortJointInterface</hardwareInterface>
      </joint>
      <actuator name="motor1">
   <hardwareInterface>hardware_interface/EffortJointInterface</hardwareInterface>
   <mechanicalReduction>1</mechanicalReduction>
      </actuator>
    </transmission>

    <transmission name="tran2">
      <type>transmission_interface/SimpleTransmission</type>
      <joint name="Rotation_Base">
   <hardwareInterface>hardware_interface/EffortJointInterface</hardwareInterface>
      </joint>
      <actuator name="motor2">
   <hardwareInterface>hardware_interface/EffortJointInterface</hardwareInterface>
   <mechanicalReduction>1</mechanicalReduction>
      </actuator>
    </transmission>

    <transmission name="tran3">
      <type>transmission_interface/SimpleTransmission</type>
      <joint name="Base_Elbow">
   <hardwareInterface>hardware_interface/EffortJointInterface</hardwareInterface>
      </joint>
      <actuator name="motor3">
   <hardwareInterface>hardware_interface/EffortJointInterface</hardwareInterface>
   <mechanicalReduction>1</mechanicalReduction>
      </actuator>
    </transmission>

    <transmission name="tran4">
      <type>transmission_interface/SimpleTransmission</type>
      <joint name="Elbow_Wrist">
   <hardwareInterface>hardware_interface/EffortJointInterface</hardwareInterface>
      </joint>
      <actuator name="motor4">
   <hardwareInterface>hardware_interface/EffortJointInterface</hardwareInterface>
   <mechanicalReduction>1</mechanicalReduction>
      </actuator>
    </transmission>
    <gazebo>
<plugin filename="libgazebo_ros_control.so" name="gazebo_ros_control">
<robotNamespace>/owi535</robotNamespace>
<robotSimType>gazebo_ros_control/DefaultRobotHWSim</robotSimType>
<legacyModeNS>true</legacyModeNS>
</plugin>
</gazebo>
</robot>
